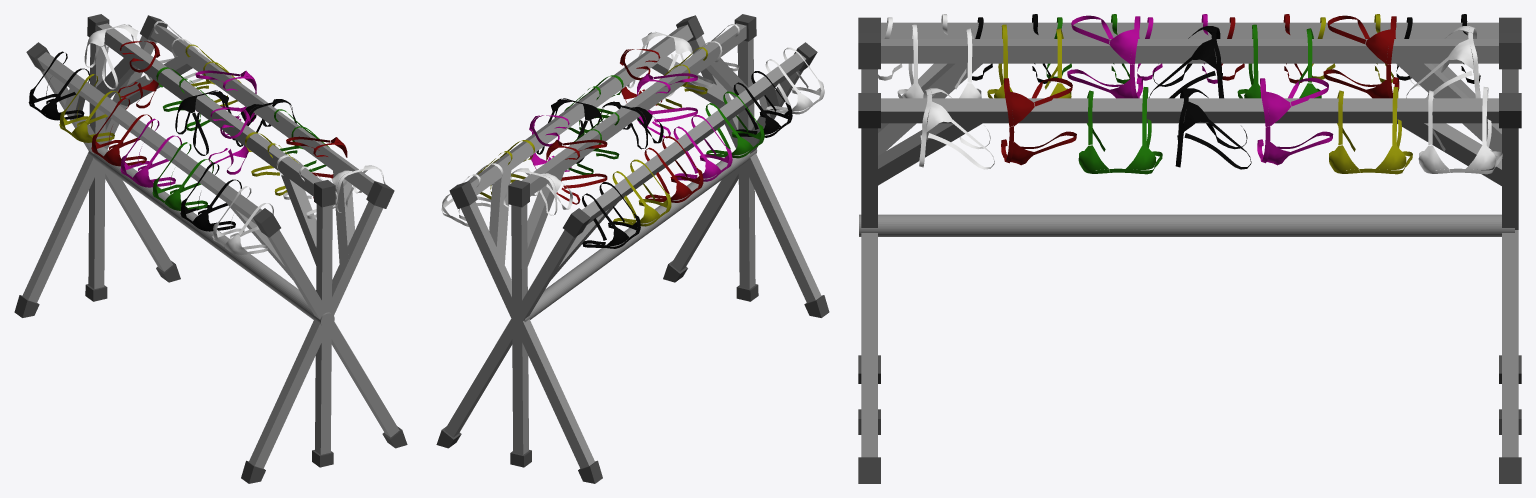
Rendered from Jemuran.fbx.
The picture shows the model from 3 angles, left to right: view 1: azimuth 30°, elevation 25°; view 2: azimuth 150°, elevation 25°; view 3: azimuth 270°, elevation 25°; orthographic projection. The views are drawn at different scales.
Visible parts, largest first — view 1: Cube.002, Cube.008, Cylinder, Pattern2D_10064_FABRIC 1_FRONT_4376_0.015, Pattern2D_10064_FABRIC 1_FRONT_4376_0.018, Pattern2D_10064_FABRIC 1_FRONT_4376_0.021, Pattern2D_10064_FABRIC 1_FRONT_4376_0.020, Pattern2D_10064_FABRIC 1_FRONT_4376_0.017, Pattern2D_10064_FABRIC 1_FRONT_4376_0.016, Pattern2D_10064_FABRIC 1_FRONT_4376_0.019, Pattern2D_10064_FABRIC 1_FRONT_4376_0.013, Pattern2D_10064_FABRIC 1_FRONT_4376_0.008 (+6 smaller); view 2: Cube.002, Cube.008, Cylinder, Pattern2D_10064_FABRIC 1_FRONT_4376_0.021, Pattern2D_10064_FABRIC 1_FRONT_4376_0.015, Pattern2D_10064_FABRIC 1_FRONT_4376_0.019, Pattern2D_10064_FABRIC 1_FRONT_4376_0.017, Pattern2D_10064_FABRIC 1_FRONT_4376_0.020, Pattern2D_10064_FABRIC 1_FRONT_4376_0.018, Pattern2D_10064_FABRIC 1_FRONT_4376_0.016, Pattern2D_10064_FABRIC 1_FRONT_4376_0.009, Pattern2D_10064_FABRIC 1_FRONT_4376_0.012 (+9 smaller); view 3: Cube.002, Cylinder, Cube.008, Pattern2D_10064_FABRIC 1_FRONT_4376_0.003, Pattern2D_10064_FABRIC 1_FRONT_4376_0.005, Pattern2D_10064_FABRIC 1_FRONT_4376_0.009, Pattern2D_10064_FABRIC 1_FRONT_4376_0.004, Pattern2D_10064_FABRIC 1_FRONT_4376_0.012, Pattern2D_10064_FABRIC 1_FRONT_4376_0.007, Pattern2D_10064_FABRIC 1_FRONT_4376_0.001, Pattern2D_10064_FABRIC 1_FRONT_4376_0.002, Pattern2D_10064_FABRIC 1_FRONT_4376_0.006 (+5 smaller).
Part boxes in pixels (x1=…): Cube.002: x1=22, y1=23, x2=399, y2=468; Cube.008: x1=14, y1=14, x2=407, y2=483; Cylinder: x1=89, y1=147, x2=334, y2=327; Pattern2D_10064_FABRIC 1_FRONT_4376_0.015: x1=212, y1=186, x2=273, y2=254; Pattern2D_10064_FABRIC 1_FRONT_4376_0.018: x1=120, y1=118, x2=181, y2=187; Pattern2D_10064_FABRIC 1_FRONT_4376_0.021: x1=28, y1=51, x2=89, y2=120; Pattern2D_10064_FABRIC 1_FRONT_4376_0.020: x1=59, y1=74, x2=120, y2=142; Pattern2D_10064_FABRIC 1_FRONT_4376_0.017: x1=152, y1=142, x2=213, y2=210; Pattern2D_10064_FABRIC 1_FRONT_4376_0.016: x1=180, y1=162, x2=241, y2=231; Pattern2D_10064_FABRIC 1_FRONT_4376_0.019: x1=91, y1=97, x2=152, y2=166; Pattern2D_10064_FABRIC 1_FRONT_4376_0.013: x1=84, y1=24, x2=151, y2=89; Pattern2D_10064_FABRIC 1_FRONT_4376_0.008: x1=175, y1=90, x2=242, y2=155; Cube.002: x1=444, y1=23, x2=821, y2=468; Cube.008: x1=436, y1=14, x2=829, y2=483; Cylinder: x1=524, y1=149, x2=757, y2=321; Pattern2D_10064_FABRIC 1_FRONT_4376_0.021: x1=582, y1=182, x2=640, y2=248; Pattern2D_10064_FABRIC 1_FRONT_4376_0.015: x1=765, y1=47, x2=824, y2=114; Pattern2D_10064_FABRIC 1_FRONT_4376_0.019: x1=644, y1=136, x2=703, y2=202; Pattern2D_10064_FABRIC 1_FRONT_4376_0.017: x1=705, y1=91, x2=764, y2=158; Pattern2D_10064_FABRIC 1_FRONT_4376_0.020: x1=612, y1=159, x2=671, y2=226; Pattern2D_10064_FABRIC 1_FRONT_4376_0.018: x1=673, y1=115, x2=732, y2=181; Pattern2D_10064_FABRIC 1_FRONT_4376_0.016: x1=733, y1=71, x2=792, y2=137; Pattern2D_10064_FABRIC 1_FRONT_4376_0.009: x1=637, y1=73, x2=697, y2=138; Pattern2D_10064_FABRIC 1_FRONT_4376_0.012: x1=546, y1=139, x2=607, y2=204; Cube.002: x1=861, y1=22, x2=1518, y2=457; Cylinder: x1=859, y1=214, x2=1514, y2=236; Cube.008: x1=858, y1=17, x2=1521, y2=483; Pattern2D_10064_FABRIC 1_FRONT_4376_0.003: x1=1257, y1=77, x2=1333, y2=165; Pattern2D_10064_FABRIC 1_FRONT_4376_0.005: x1=1001, y1=77, x2=1076, y2=165; Pattern2D_10064_FABRIC 1_FRONT_4376_0.009: x1=1067, y1=15, x2=1142, y2=98; Pattern2D_10064_FABRIC 1_FRONT_4376_0.004: x1=1329, y1=86, x2=1412, y2=174; Pattern2D_10064_FABRIC 1_FRONT_4376_0.012: x1=1323, y1=15, x2=1399, y2=98; Pattern2D_10064_FABRIC 1_FRONT_4376_0.007: x1=1418, y1=87, x2=1502, y2=174; Pattern2D_10064_FABRIC 1_FRONT_4376_0.001: x1=1078, y1=87, x2=1162, y2=174; Pattern2D_10064_FABRIC 1_FRONT_4376_0.002: x1=1175, y1=88, x2=1251, y2=169; Pattern2D_10064_FABRIC 1_FRONT_4376_0.006: x1=919, y1=88, x2=994, y2=169.
Size of the model in its own units: 312 by 490 by 726.
